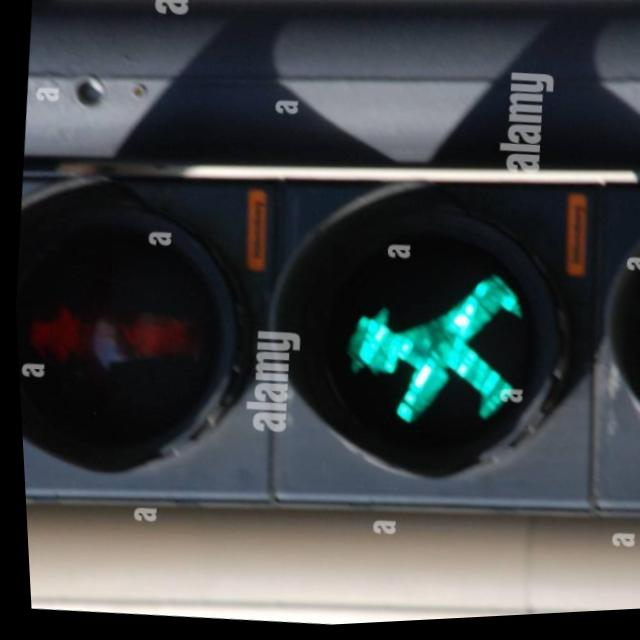green_light: (316, 266, 514, 460)
